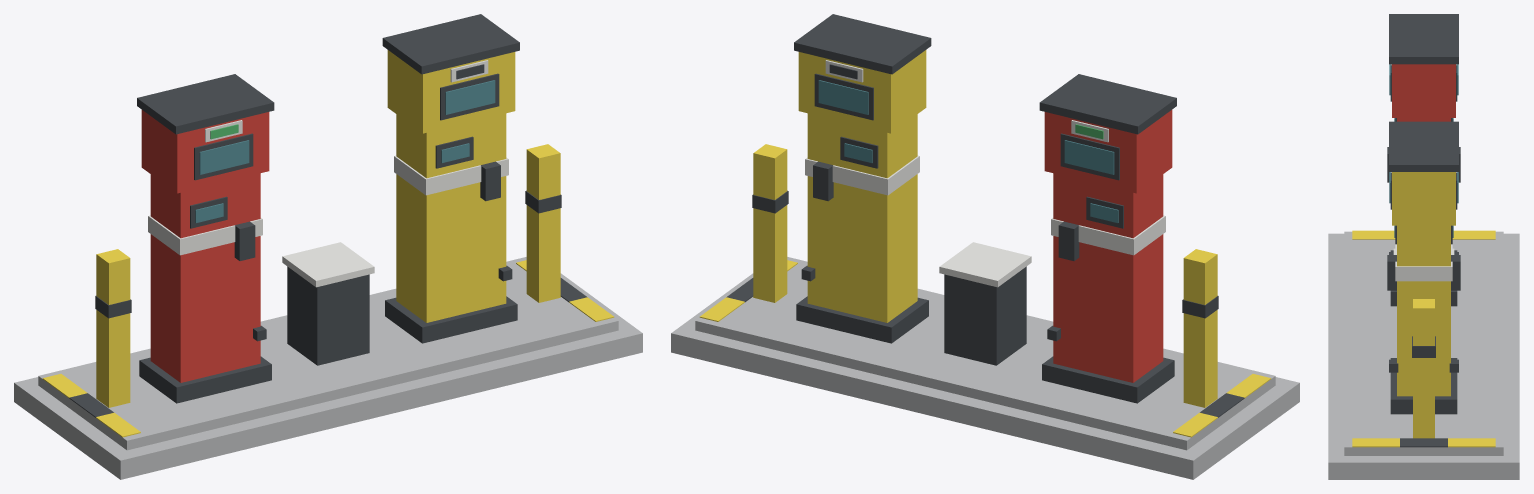
Rendered from pump-island.glb.
The picture shows the model from 3 angles, left to right: view 1: azimuth 30°, elevation 25°; view 2: azimuth 150°, elevation 25°; view 3: azimuth 270°, elevation 25°; orthographic projection. The views are drawn at different scales.
Parts seen in each view (by area): view 1: Prop_PumpIsland_mesh; view 2: Prop_PumpIsland_mesh; view 3: Prop_PumpIsland_mesh.
Boxes of the visible parts, box(x1,y1,x2,y2) form: Prop_PumpIsland_mesh: box(14, 14, 642, 479); Prop_PumpIsland_mesh: box(671, 14, 1299, 479); Prop_PumpIsland_mesh: box(1328, 14, 1519, 479).
Size of the model in its own units: 3.4 by 1.91 by 1.2.
